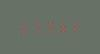nine: (44, 20, 56, 33)
six: (57, 19, 69, 33)
three: (31, 20, 43, 34)
two: (70, 19, 82, 32)
zero: (18, 21, 30, 34)
